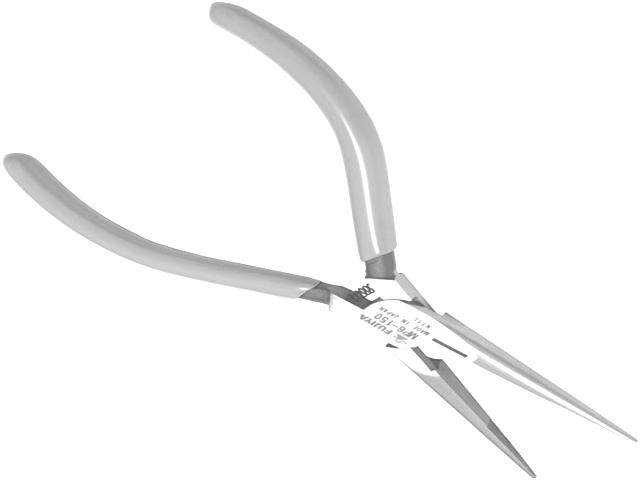Needle-nose pliers: (1, 2, 636, 477)
